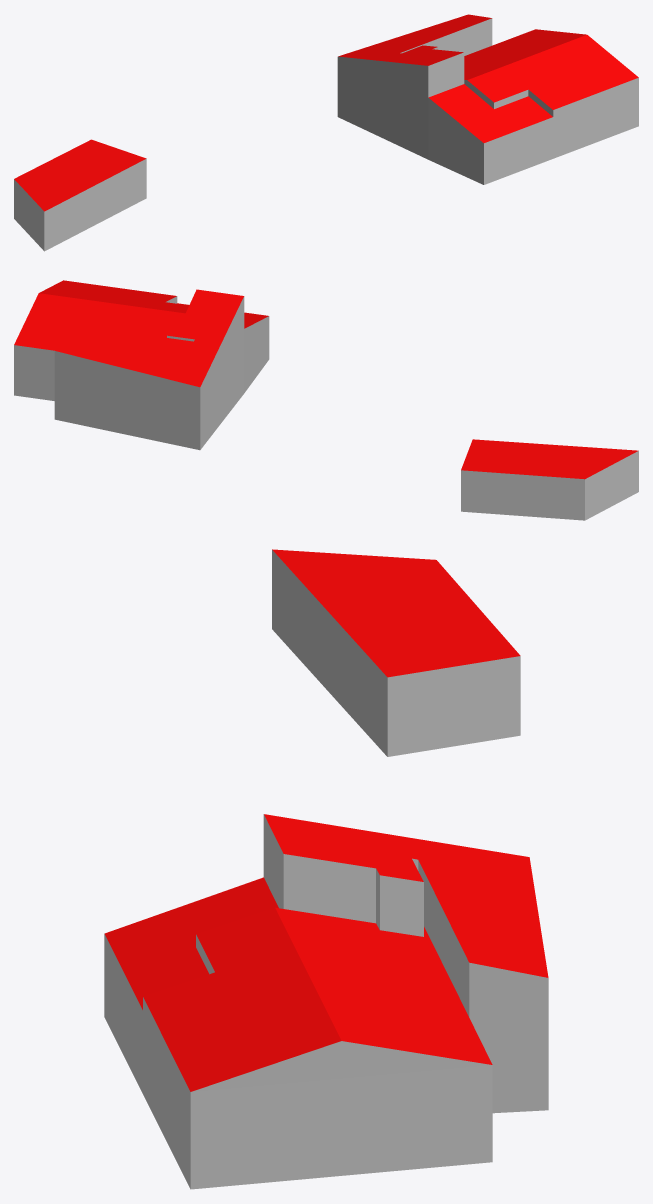
3 renders of one model, top to bottom at view 1: azimuth 30°, elevation 25°; view 2: azimuth 150°, elevation 25°; view 3: azimuth 270°, elevation 25°, orthographic. The views are drawn at different scales.
Bounding box in the file's own units: 39.19 × 6.12 × 13.12.
